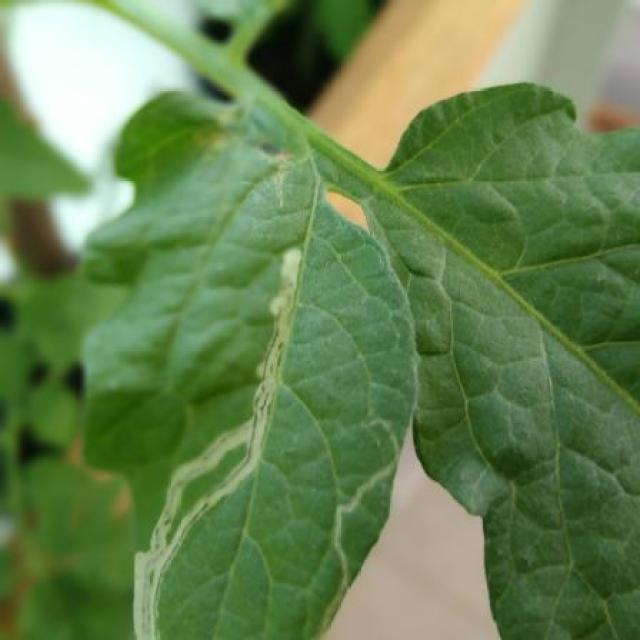Leaf Miner: (66, 140, 421, 640)
